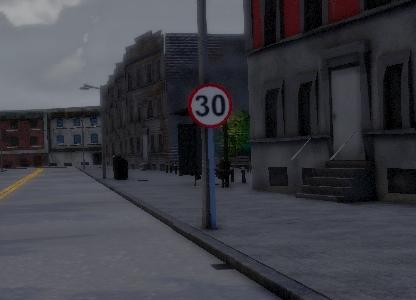Speed_30: (185, 82, 235, 129)
